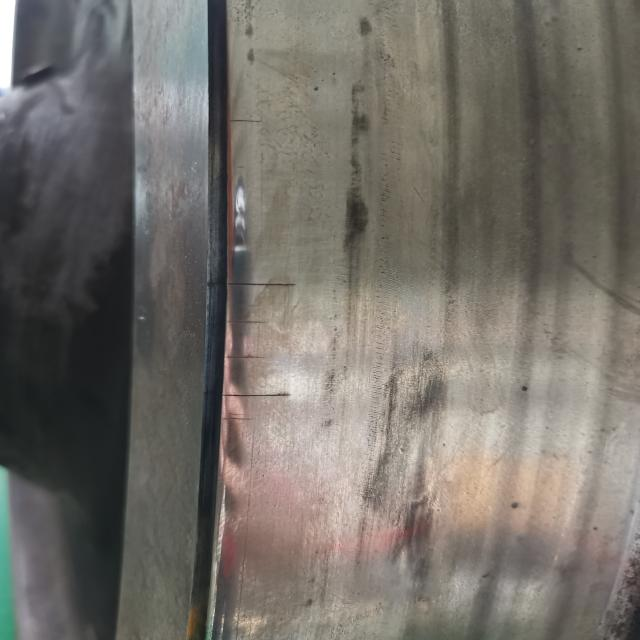Brake_Thermal_Cracks: (222, 383, 297, 407), (231, 275, 302, 296), (224, 349, 270, 368), (227, 114, 268, 133), (220, 414, 259, 428), (232, 317, 268, 332)
